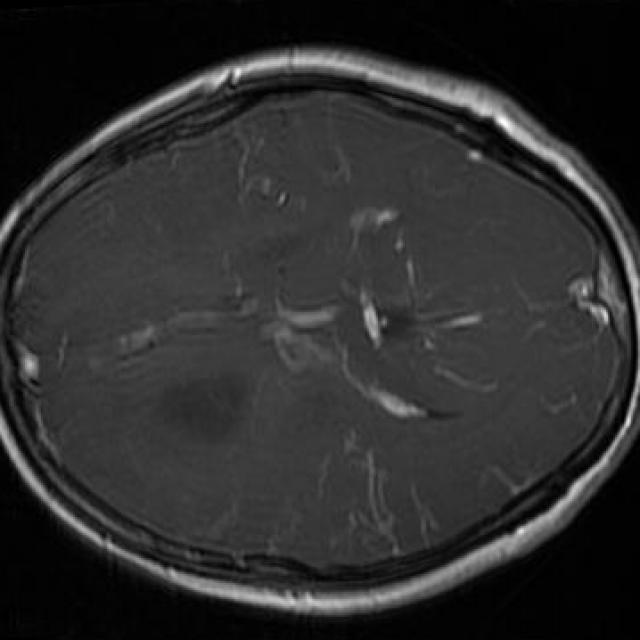glioma: (152, 374, 244, 440)
